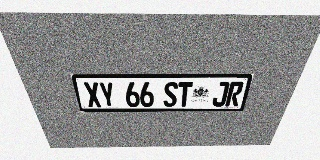6: (124, 82, 140, 107), (139, 82, 154, 107)
J: (211, 82, 230, 106)
R: (225, 82, 244, 106)
S: (163, 82, 178, 107)
T: (177, 82, 193, 107)
X: (83, 82, 102, 107)
Y: (98, 82, 116, 107)
